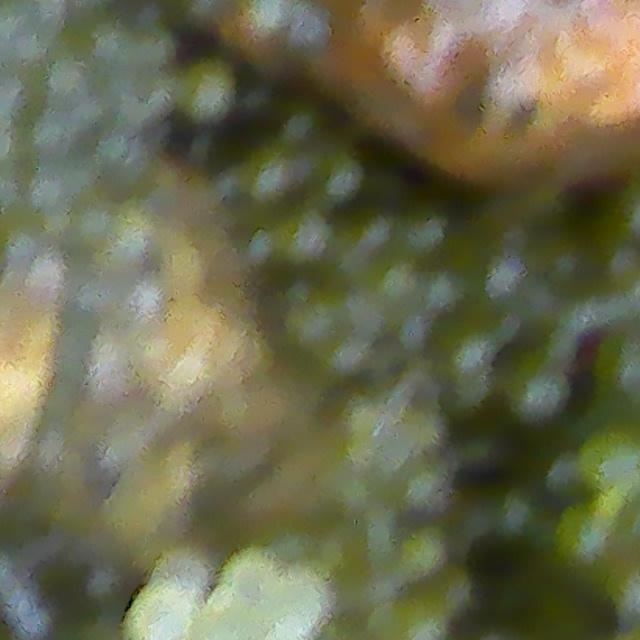SeaGrape: (261, 558, 335, 640), (122, 590, 198, 640), (153, 544, 212, 593)
